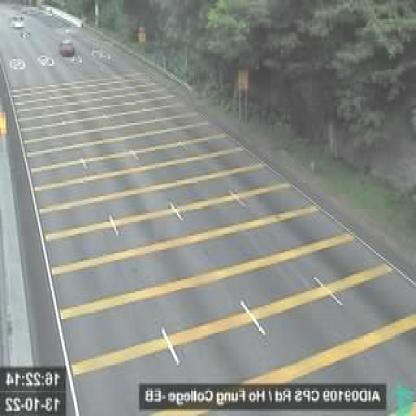Car: (60, 38, 76, 57), (10, 12, 26, 29)
